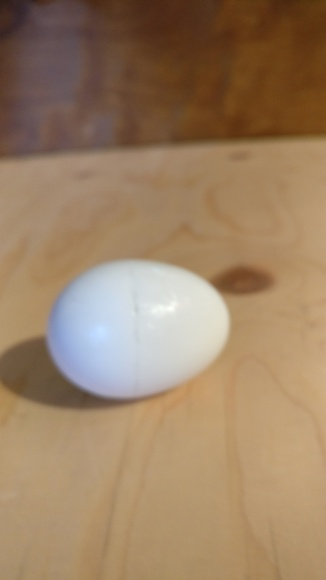egg: (48, 260, 230, 403)
